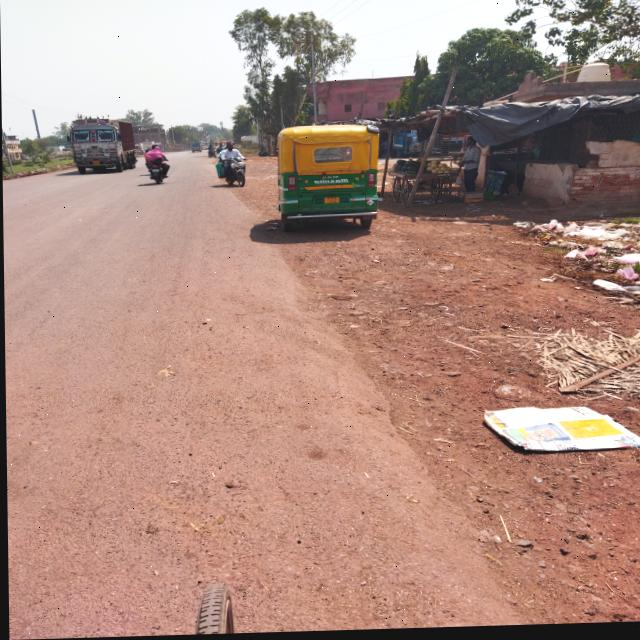plate: (323, 199, 339, 206), (91, 161, 99, 165), (151, 170, 159, 173)
